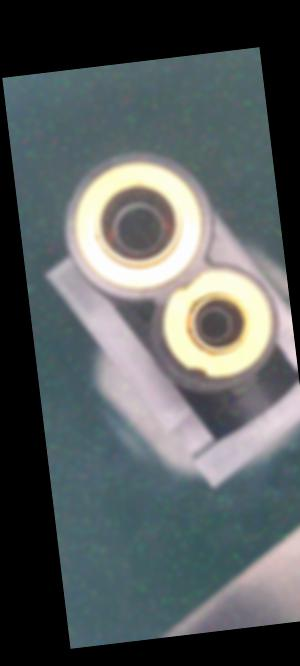bump: (179, 360, 213, 382), (176, 272, 208, 294)
